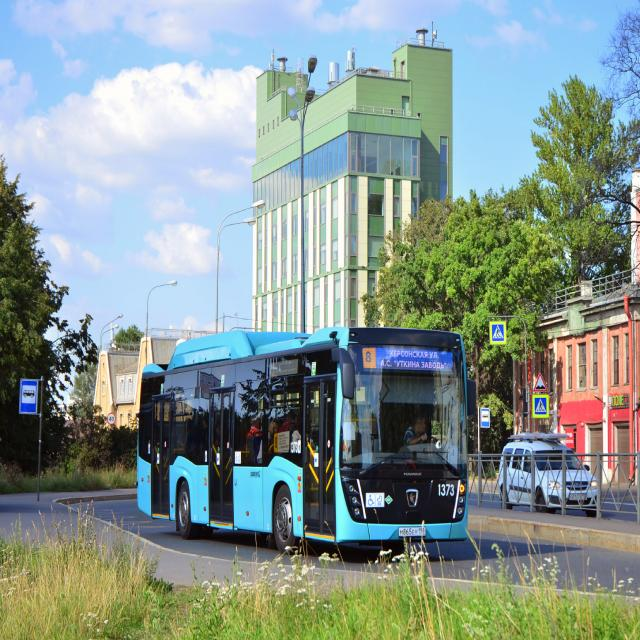number-of-bus: (364, 349, 375, 367), (275, 435, 279, 451)
